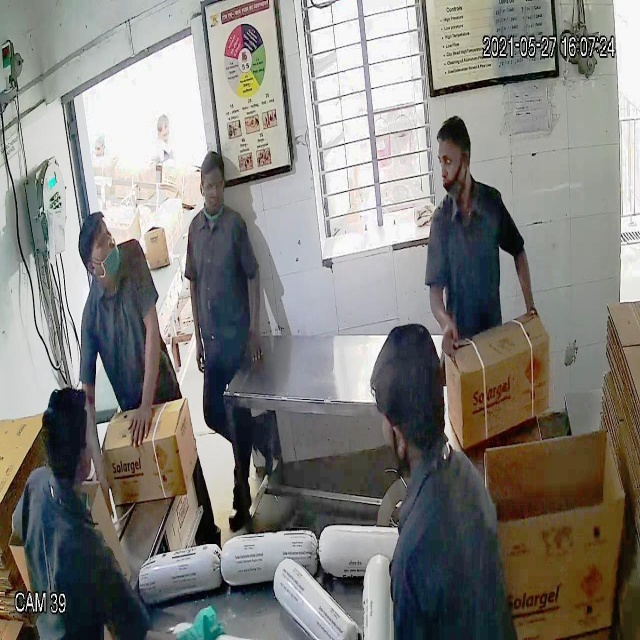Sin_gafas: (78, 219, 125, 261), (436, 148, 469, 179)
